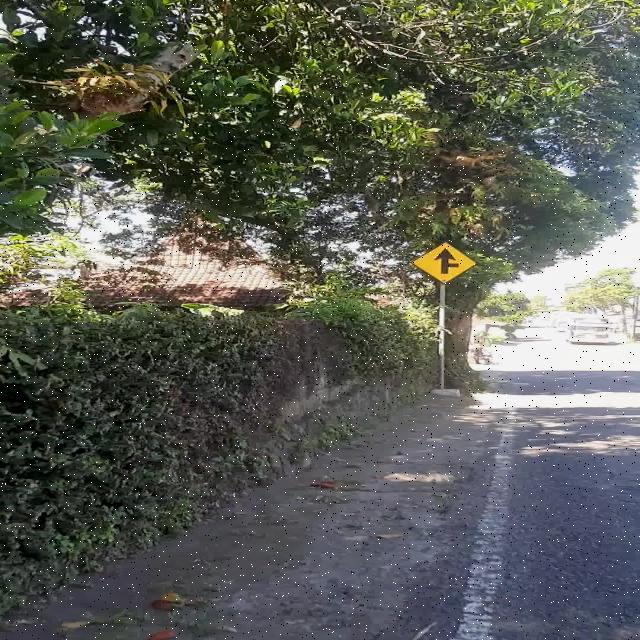Persimpangan 3 Prioritas Kanan: (410, 242, 478, 284)
